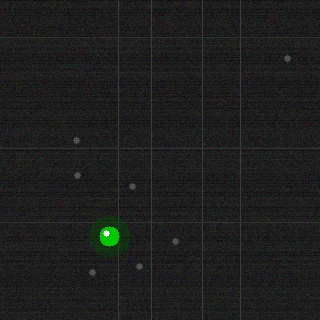green_normal: (97, 224, 121, 248)
